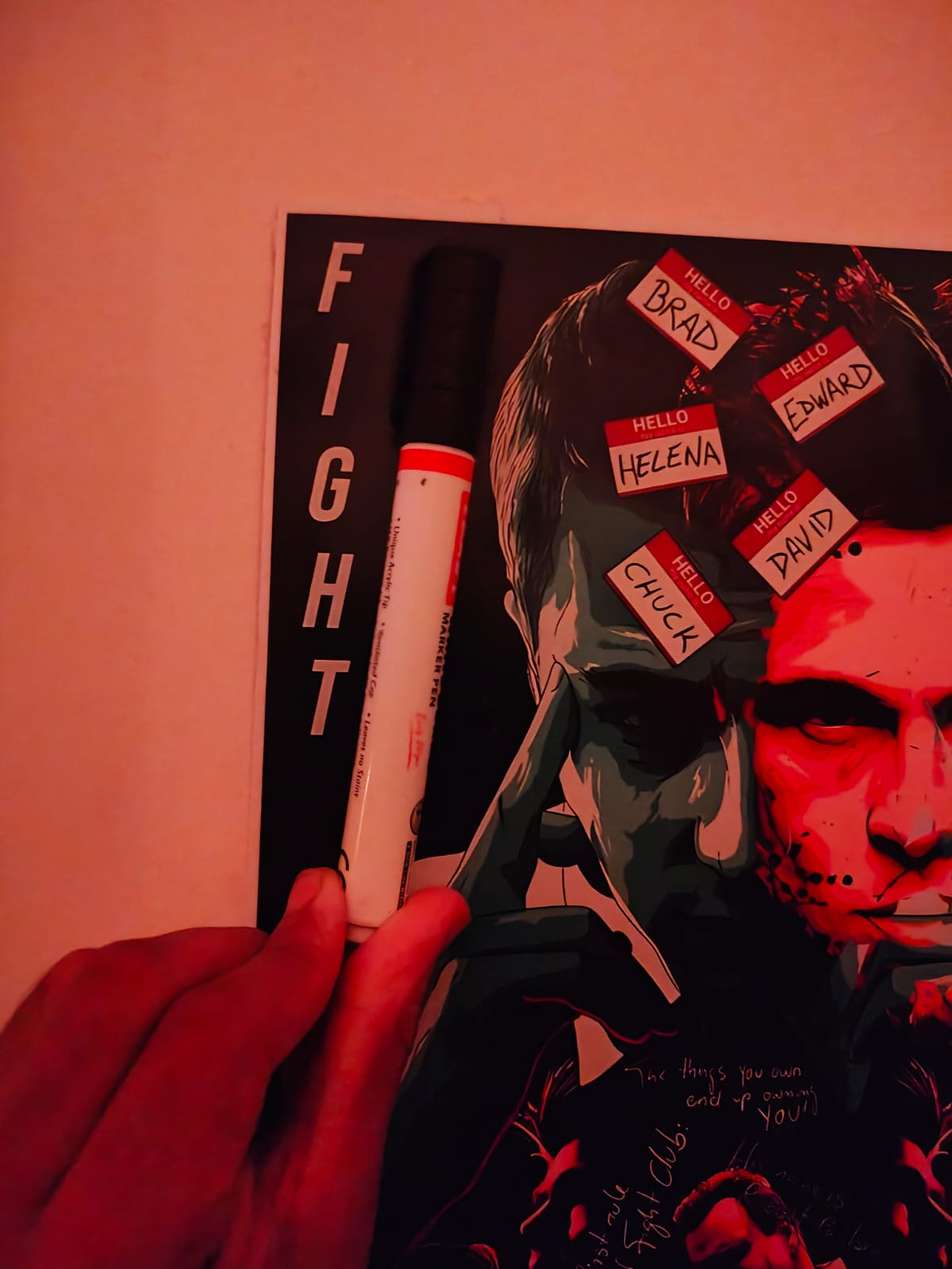case: (325, 219, 510, 952)
